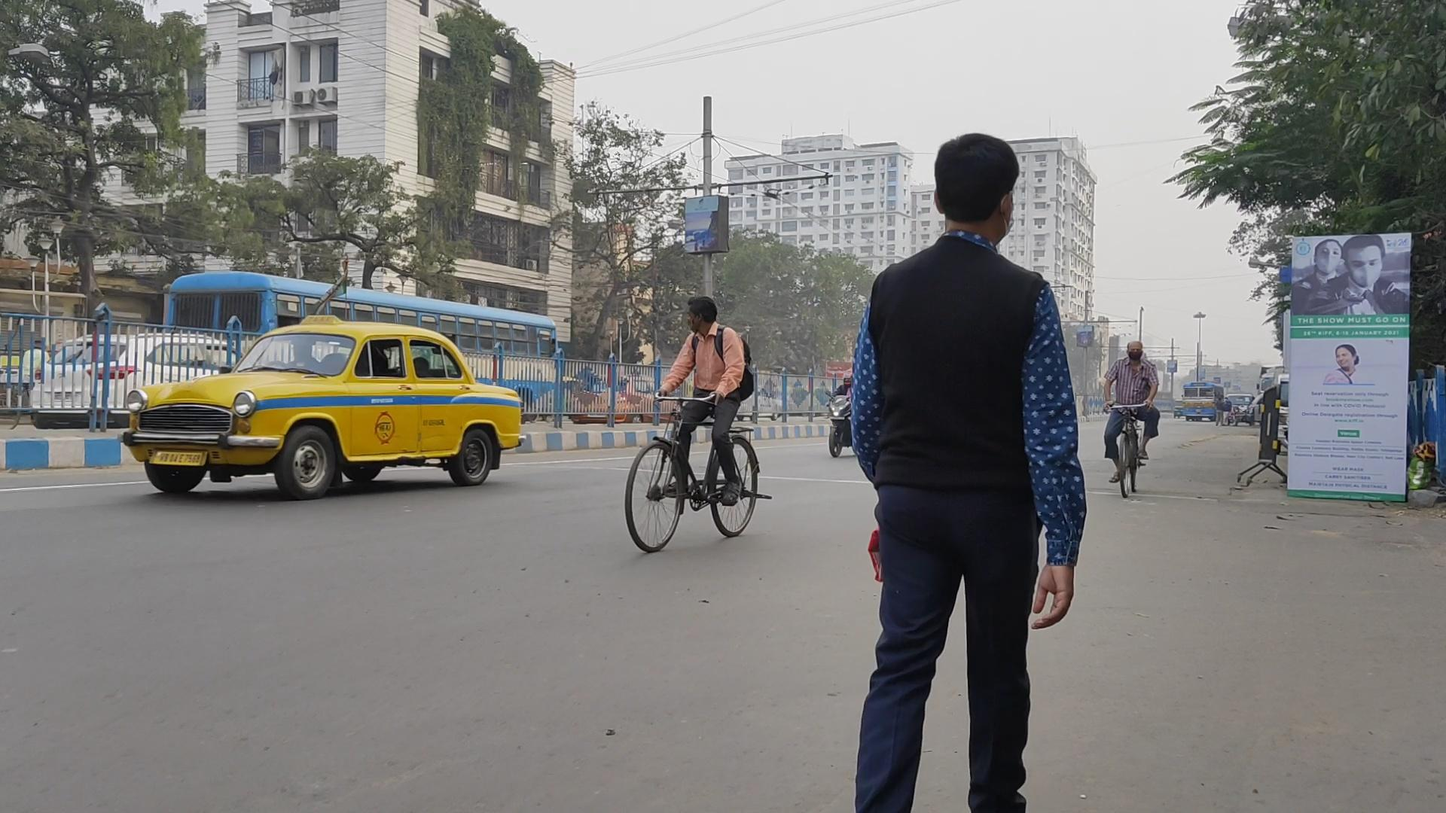Bus: (1182, 381, 1225, 422)
bike: (624, 297, 772, 554), (1103, 340, 1160, 500), (825, 373, 871, 458)
car: (125, 314, 526, 500), (1224, 391, 1256, 428)
